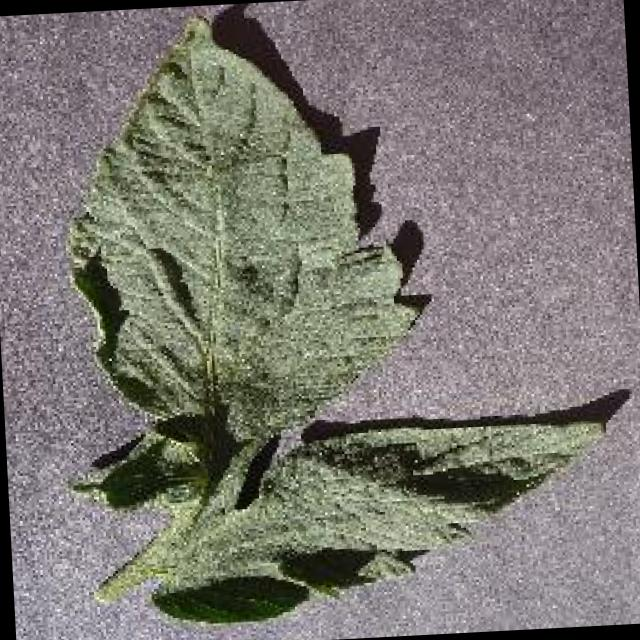Tomato_Healthy: (46, 0, 615, 625)
